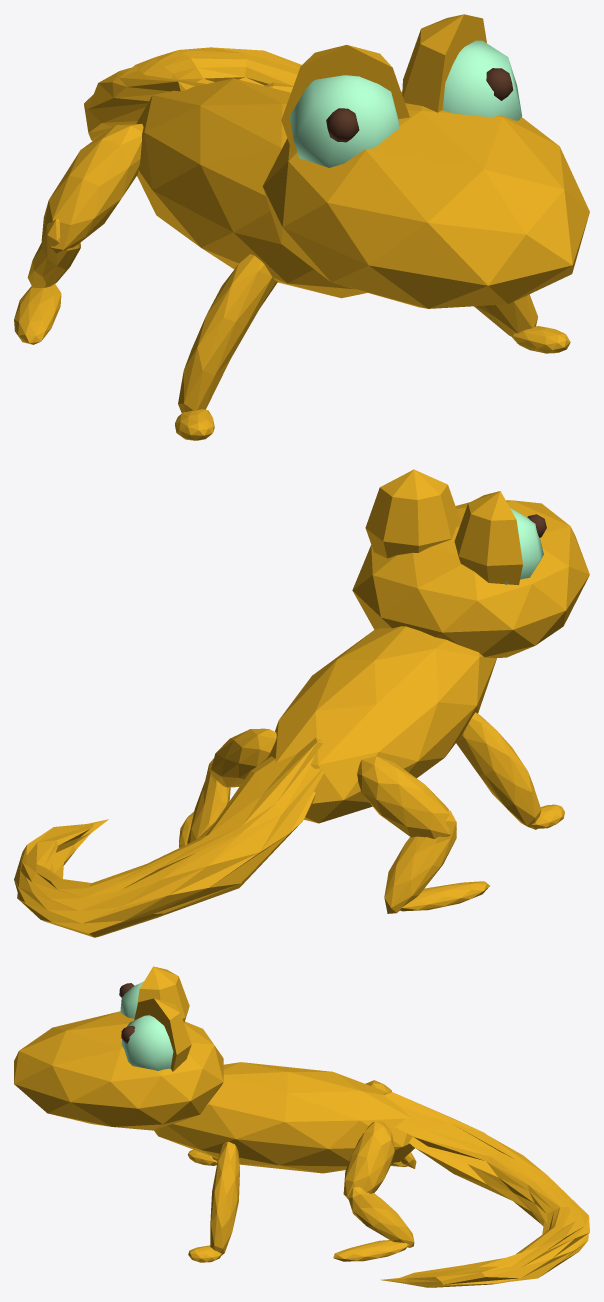
Rendered from jaszczur.fbx.
3 renders of one model, top to bottom at view 1: azimuth 30°, elevation 25°; view 2: azimuth 150°, elevation 25°; view 3: azimuth 270°, elevation 25°, orthographic. The views are drawn at different scales.
Visible parts, largest first — view 1: jaszczur; view 2: jaszczur; view 3: jaszczur.
Part boxes in pixels (left/top/right/bottom): jaszczur: left=14, top=14, right=589, bottom=440; jaszczur: left=14, top=469, right=589, bottom=937; jaszczur: left=14, top=966, right=589, bottom=1287.
Size of the model in its own units: 285 by 209 by 478.
